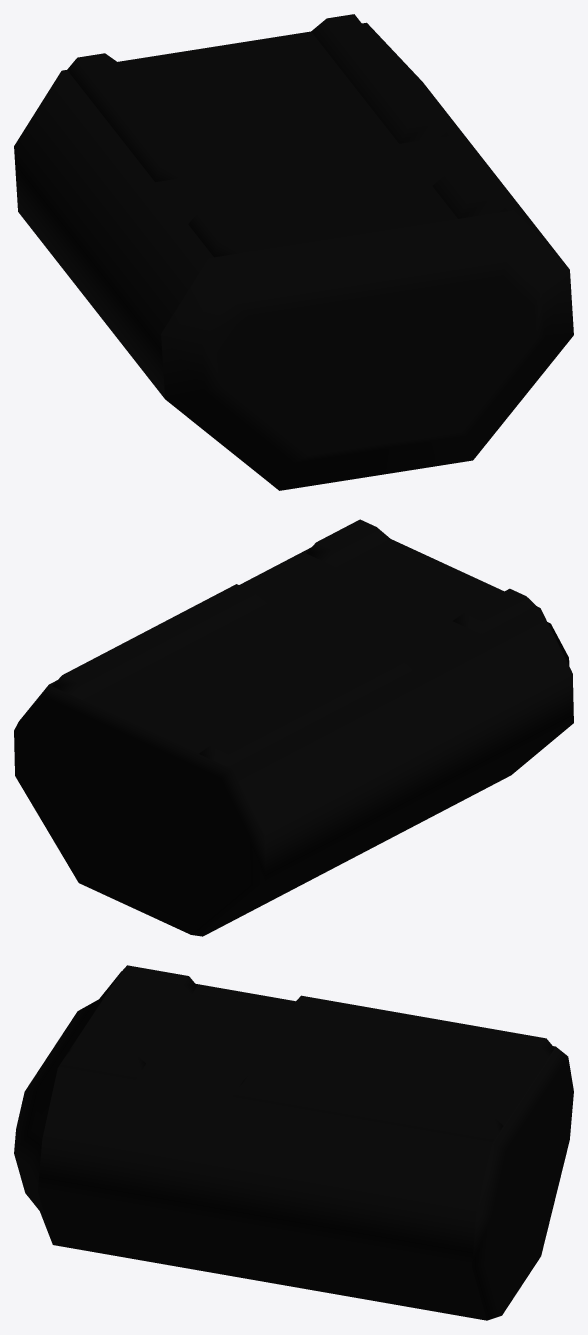
File: hgn_collectable_loot_06.glb
3 renders of one model, top to bottom at view 1: azimuth 30°, elevation 25°; view 2: azimuth 150°, elevation 25°; view 3: azimuth 270°, elevation 25°, orthographic. The views are drawn at different scales.
Visible parts, largest first — view 1: loot_container_04; view 2: loot_container_04; view 3: loot_container_04.
Boxes of the visible parts, x1,y1,x2,y2 form: loot_container_04: (14,14,573,490); loot_container_04: (14,519,573,936); loot_container_04: (14,965,573,1320).
Bounding box in the file's own units: 0.8995 × 0.5278 × 1.12.
1 material, 1 textured.
